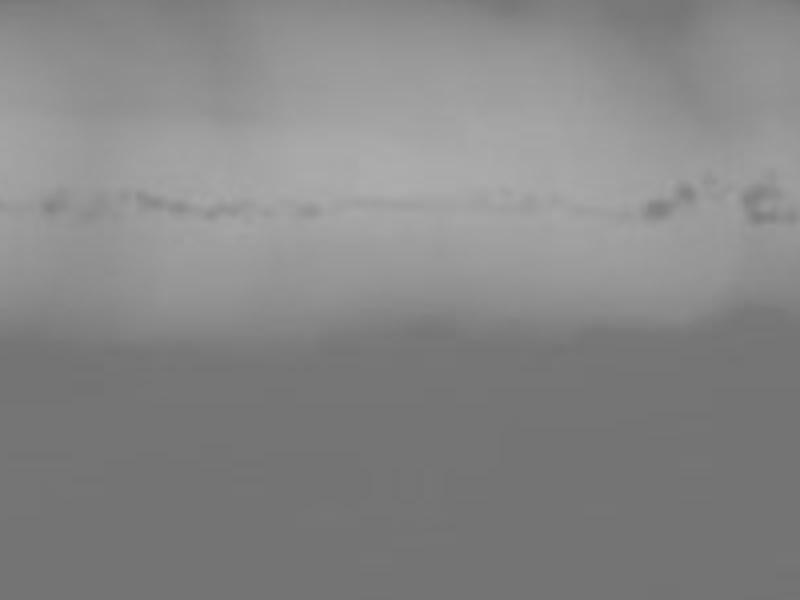defect: (80, 194, 112, 224), (746, 181, 778, 209), (703, 170, 730, 203), (39, 192, 69, 221), (136, 190, 166, 217), (513, 193, 540, 221), (204, 203, 244, 220), (644, 201, 673, 223), (747, 211, 785, 227), (171, 199, 198, 218), (296, 202, 322, 221), (673, 182, 695, 204), (260, 201, 277, 220), (494, 178, 512, 195), (118, 187, 130, 205)
